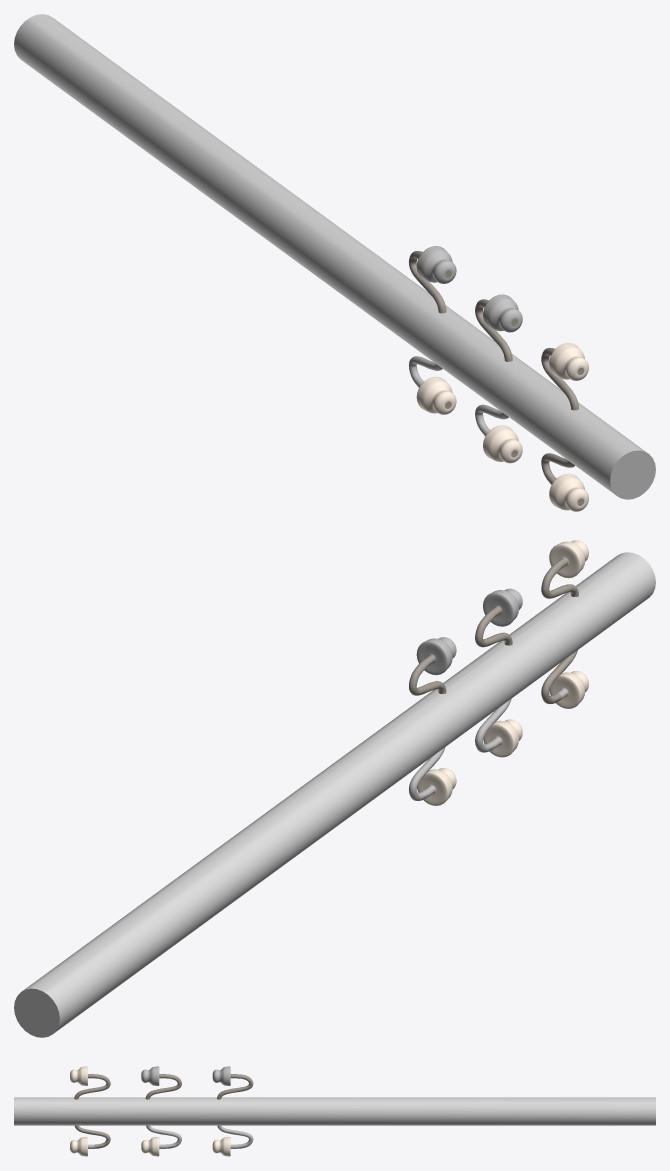
The model's file is elektr_3.obj.
3 views of the same model, one above another, from view 1: azimuth 30°, elevation 25°; view 2: azimuth 150°, elevation 25°; view 3: azimuth 270°, elevation 25° (orthographic). The views are drawn at different scales.
Parts seen in each view (by area): view 1: ________0; view 2: ________0; view 3: ________0.
Boxes of the visible parts, x1,y1,x2,y2 form: ________0: (14, 14, 655, 511); ________0: (14, 540, 655, 1037); ________0: (14, 1066, 655, 1156).
Bounding box in the file's own units: 0.004 × 0.0137 × 0.09.
